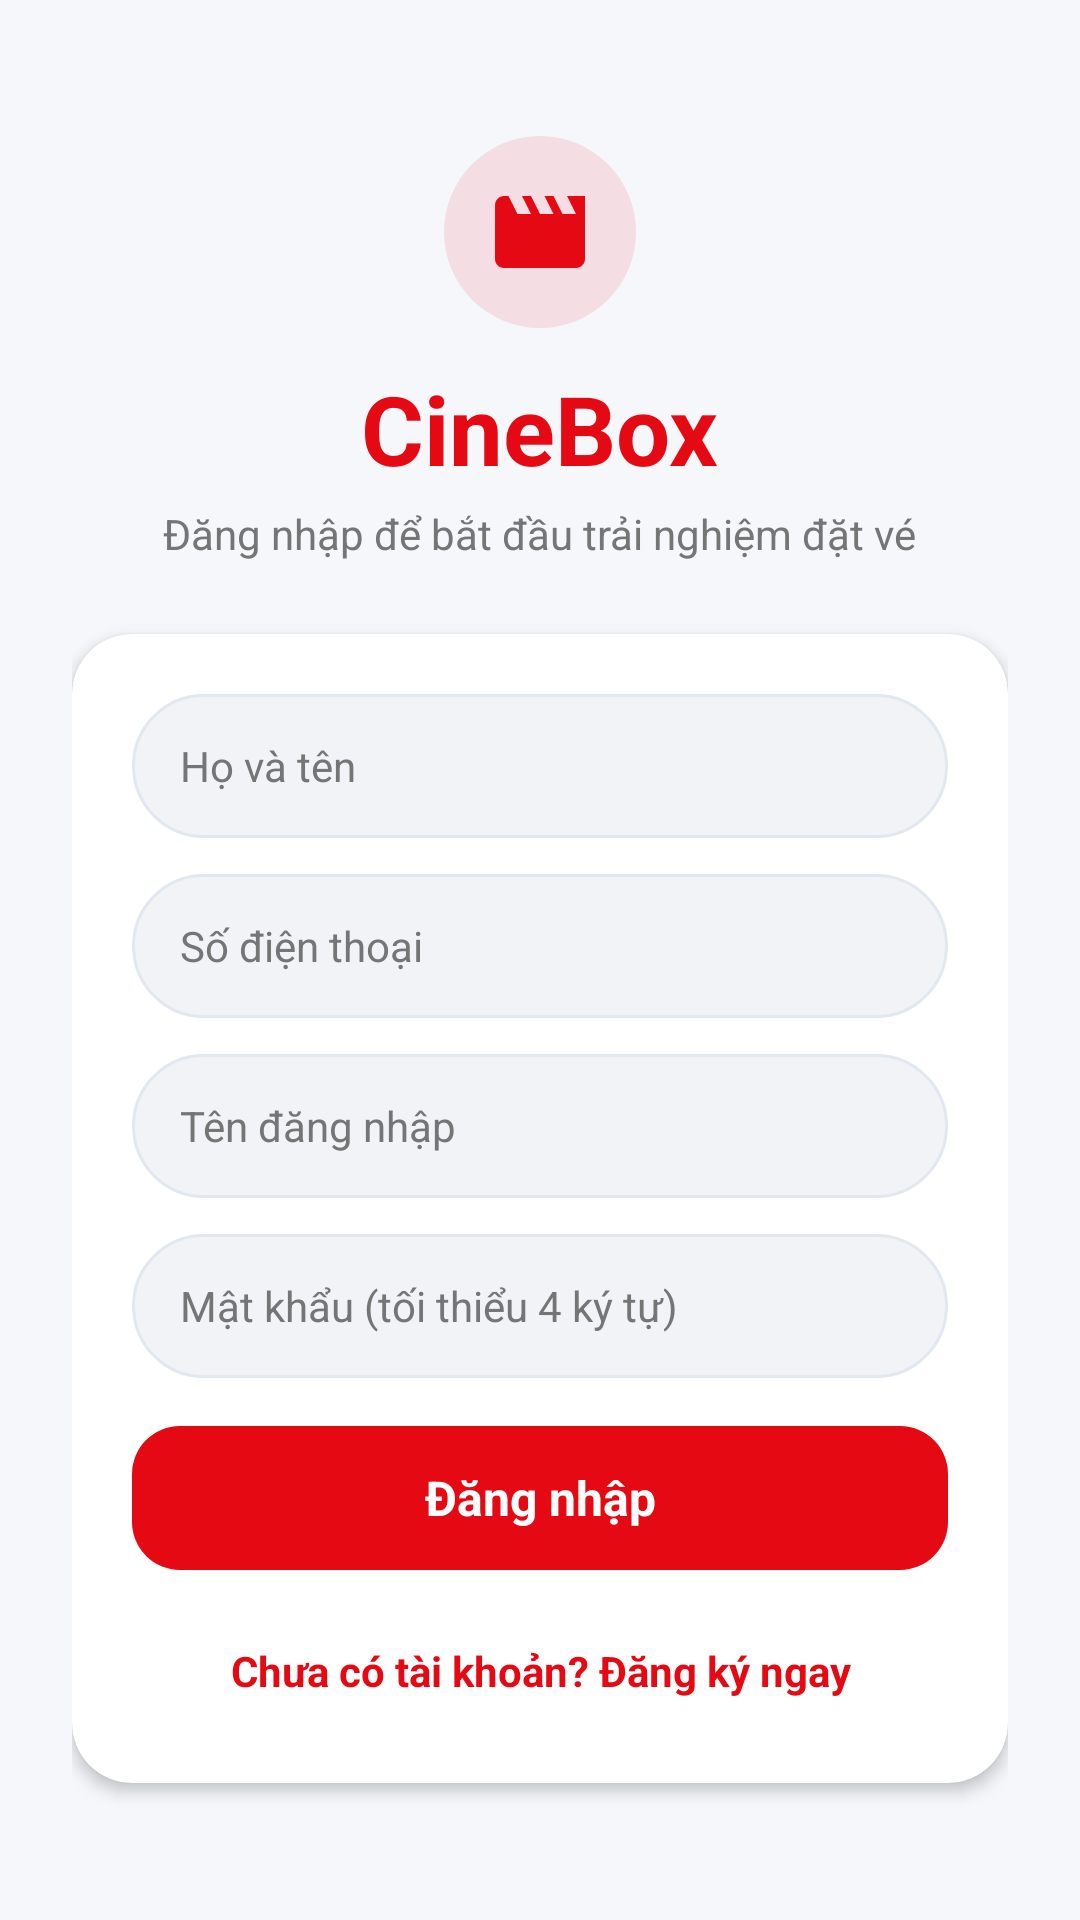

Named icons in this screenshot (1080×1920) and their centers, [x,y]:
movie: [540,232]
